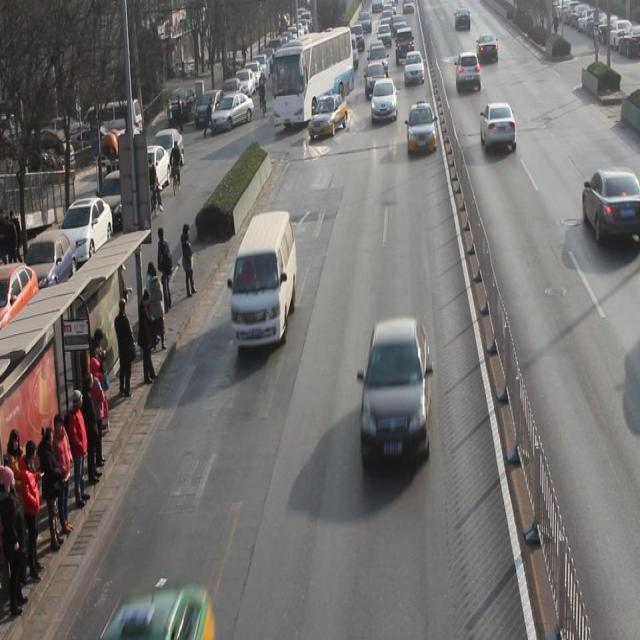car: (362, 316, 431, 467), (102, 584, 215, 640), (582, 168, 640, 246), (308, 94, 350, 140), (481, 102, 517, 155), (406, 102, 437, 155), (371, 76, 398, 125), (456, 52, 483, 94), (364, 61, 388, 100), (404, 48, 425, 88), (477, 33, 499, 68)
truck: (232, 210, 297, 347)
van: (273, 29, 354, 126)
